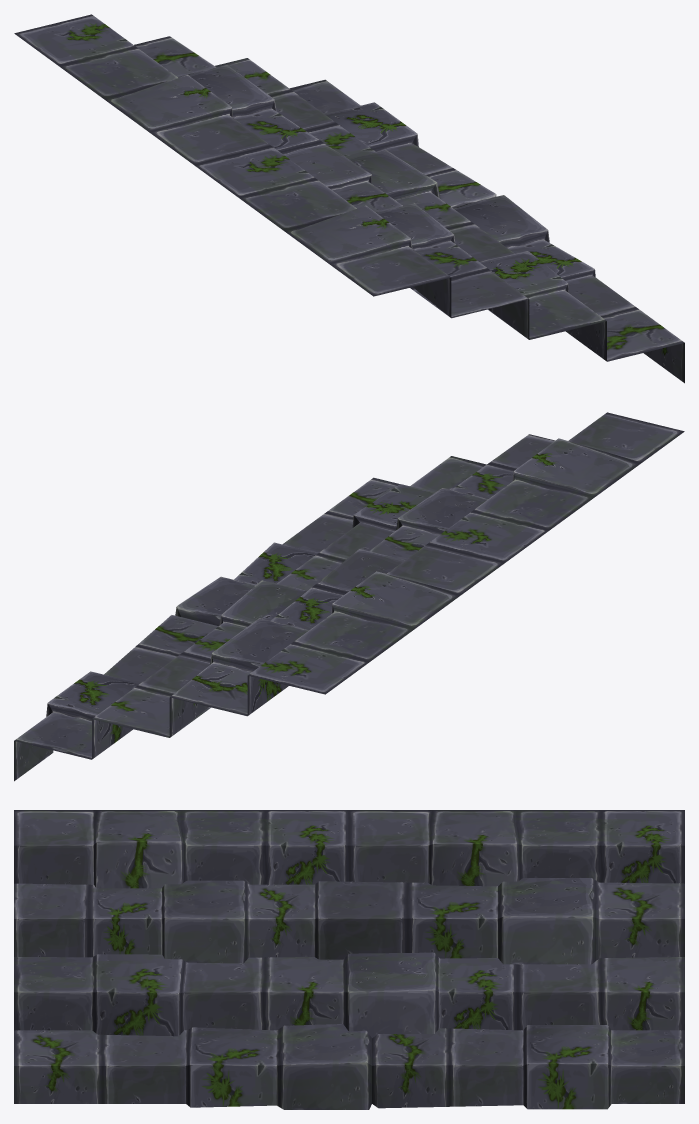
Rendered from MOD_Stairs_01_E_straight_4.fbx.
3 views of the same model, one above another, from view 1: azimuth 30°, elevation 25°; view 2: azimuth 150°, elevation 25°; view 3: azimuth 270°, elevation 25° (orthographic). The views are drawn at different scales.
Parts seen in each view (by area): view 1: MOD_Stairs_01_E_straight_4; view 2: MOD_Stairs_01_E_straight_4; view 3: MOD_Stairs_01_E_straight_4.
Part boxes in pixels (x1,y1,x2,y2): MOD_Stairs_01_E_straight_4: (14, 14, 684, 383); MOD_Stairs_01_E_straight_4: (14, 412, 684, 781); MOD_Stairs_01_E_straight_4: (14, 810, 684, 1109).
Size of what is drawn, in the model's own units: 209 by 104 by 400.
